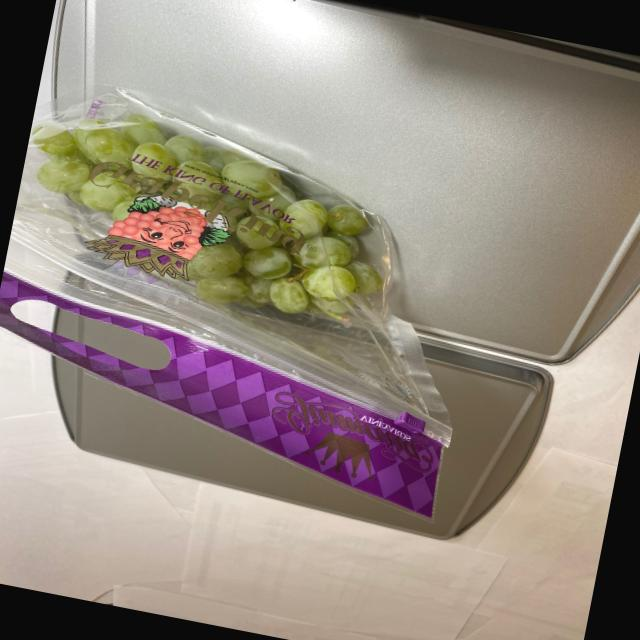grapes: (4, 96, 424, 343)
